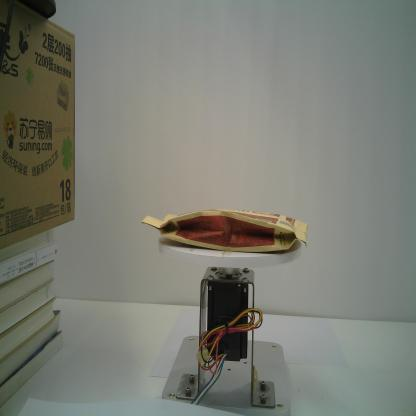Dried Food: (137, 204, 309, 254)
